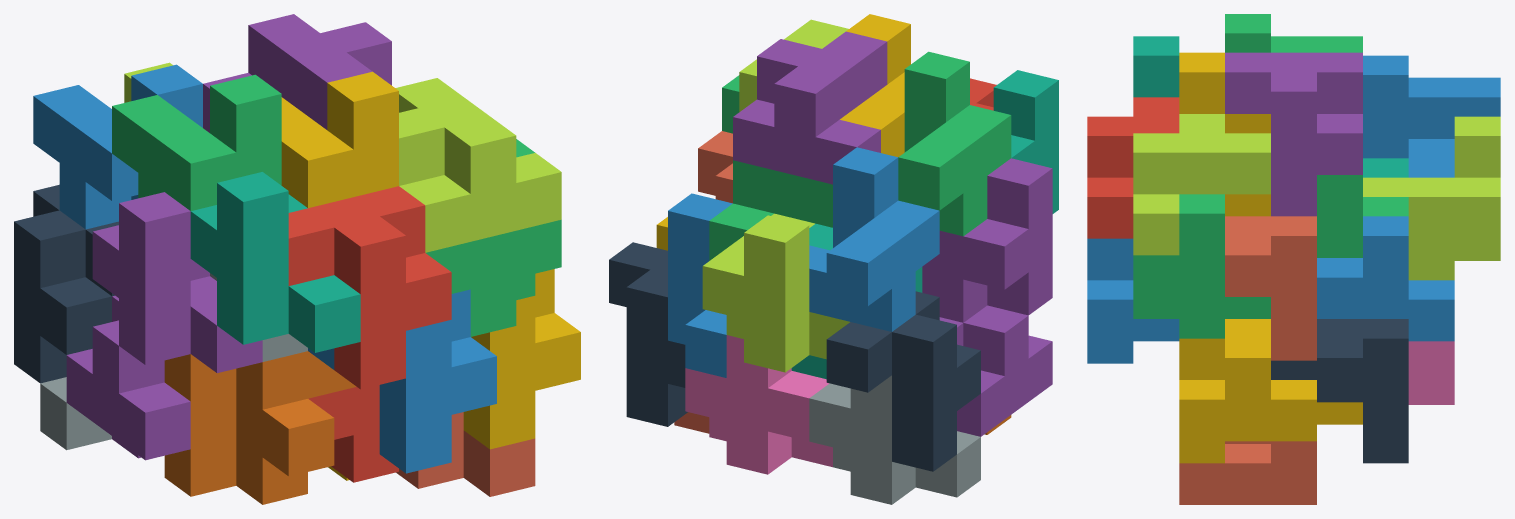
Rendered from corona.obj.
The picture shows the model from 3 angles, left to right: view 1: azimuth 30°, elevation 25°; view 2: azimuth 150°, elevation 25°; view 3: azimuth 270°, elevation 25°; orthographic projection. The views are drawn at different scales.
Parts seen in each view (by area): view 1: copy_12, copy_22, copy_18, copy_16, copy_2, copy_20, copy_13, copy_3, copy_1, copy_4, copy_15, copy_17 (+7 smaller); view 2: copy_28, copy_1, copy_20, copy_2, copy_16, copy_10, copy_9, copy_8, copy_11, copy_4, copy_25, copy_14 (+9 smaller); view 3: copy_28, copy_15, copy_10, copy_22, copy_8, copy_1, copy_26, copy_25, copy_7, copy_19, copy_12, copy_13 (+7 smaller).
Part boxes in pixels (x1=…): copy_12: x1=288, y1=186, x2=451, y2=389; copy_22: x1=395, y1=78, x2=561, y2=252; copy_18: x1=190, y1=172, x2=360, y2=352; copy_16: x1=92, y1=192, x2=262, y2=373; copy_2: x1=112, y1=74, x2=281, y2=210; copy_20: x1=14, y1=184, x2=118, y2=383; copy_13: x1=308, y1=289, x2=496, y2=473; copy_3: x1=281, y1=71, x2=398, y2=208; copy_1: x1=33, y1=64, x2=202, y2=229; copy_4: x1=66, y1=295, x2=190, y2=460; copy_15: x1=463, y1=269, x2=580, y2=449; copy_17: x1=164, y1=354, x2=307, y2=504; copy_28: x1=733, y1=31, x2=887, y2=184; copy_1: x1=809, y1=147, x2=939, y2=331; copy_20: x1=826, y1=291, x2=980, y2=471; copy_2: x1=898, y1=51, x2=1011, y2=236; copy_16: x1=922, y1=158, x2=1052, y2=322; copy_10: x1=702, y1=213, x2=849, y2=372; copy_9: x1=809, y1=375, x2=980, y2=504; copy_8: x1=609, y1=242, x2=687, y2=426; copy_11: x1=685, y1=335, x2=832, y2=474; copy_4: x1=939, y1=305, x2=1052, y2=436; copy_25: x1=668, y1=193, x2=732, y2=377; copy_14: x1=709, y1=160, x2=832, y2=260; copy_28: x1=1225, y1=52, x2=1362, y2=216; copy_15: x1=1179, y1=319, x2=1316, y2=463; copy_10: x1=1363, y1=116, x2=1500, y2=280; copy_22: x1=1133, y1=114, x2=1270, y2=255; copy_8: x1=1271, y1=319, x2=1408, y2=463; copy_1: x1=1363, y1=55, x2=1500, y2=177; copy_26: x1=1133, y1=194, x2=1270, y2=338; copy_25: x1=1317, y1=216, x2=1454, y2=341; copy_7: x1=1225, y1=216, x2=1316, y2=360; copy_19: x1=1179, y1=441, x2=1316, y2=504; copy_12: x1=1087, y1=97, x2=1179, y2=238; copy_13: x1=1087, y1=238, x2=1179, y2=363.
Size of the model in its own units: 9 by 9 by 9.
